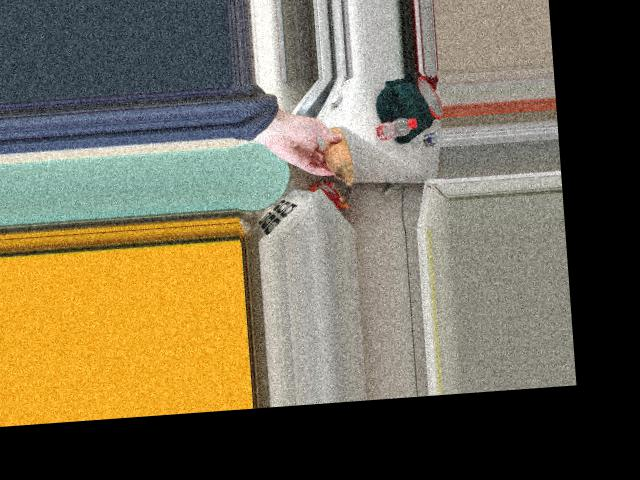sweet_potato: (324, 129, 353, 175)
